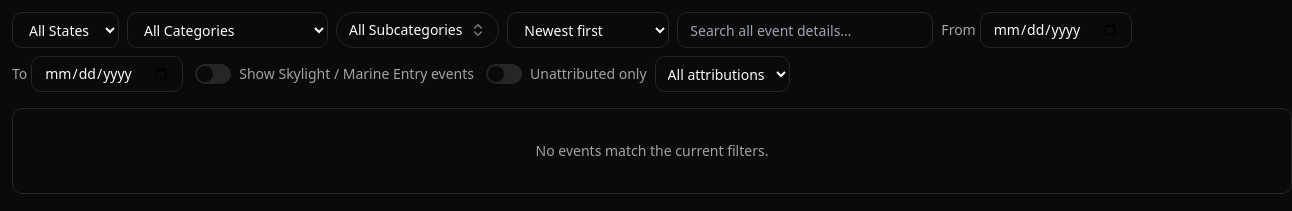
Test: EventsList — From/To date-range filter (Feature A) › clear filters resets both date bounds
This screenshot has width=1292, height=211.
Type "2026-01-01" into the date field with test id "date-from-filter".
click(1056, 30); type("2026-01-01")  # box [980,12,1132,48]
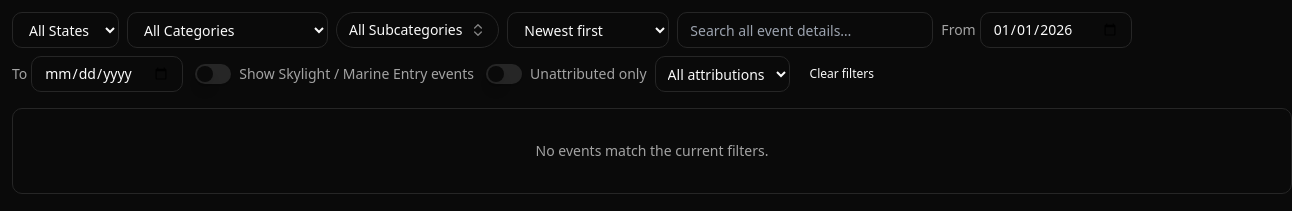
Type "2026-01-31" into the date field with test id "date-to-filter".
click(107, 74); type("2026-01-31")  # box [31,56,183,92]
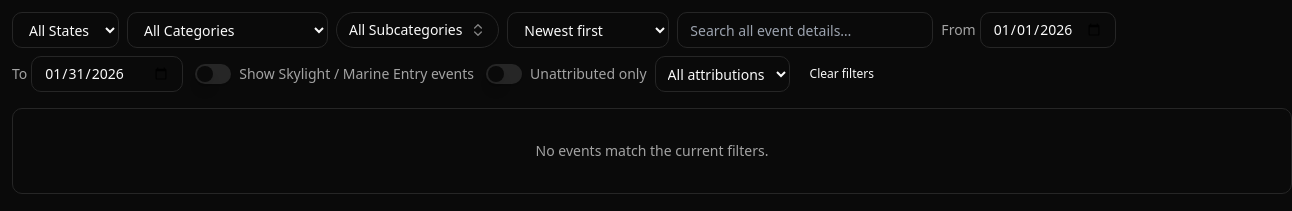
Click the button "Clear filters".
click(842, 74)  # box [798,58,886,90]
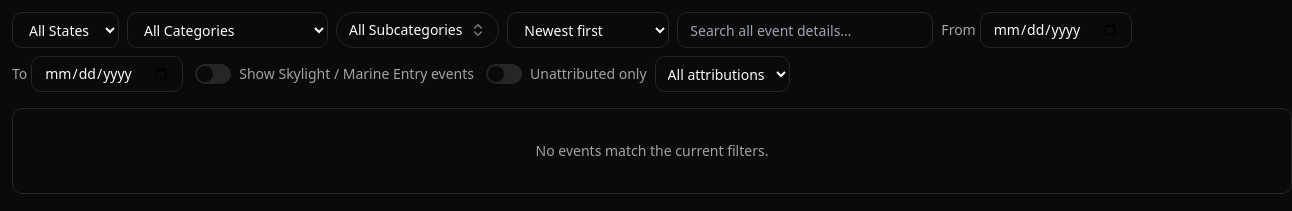
Result: the date field with test id "date-from-filter" is empty at [980,12,1132,48]
Result: the date field with test id "date-to-filter" is empty at [31,56,183,92]
